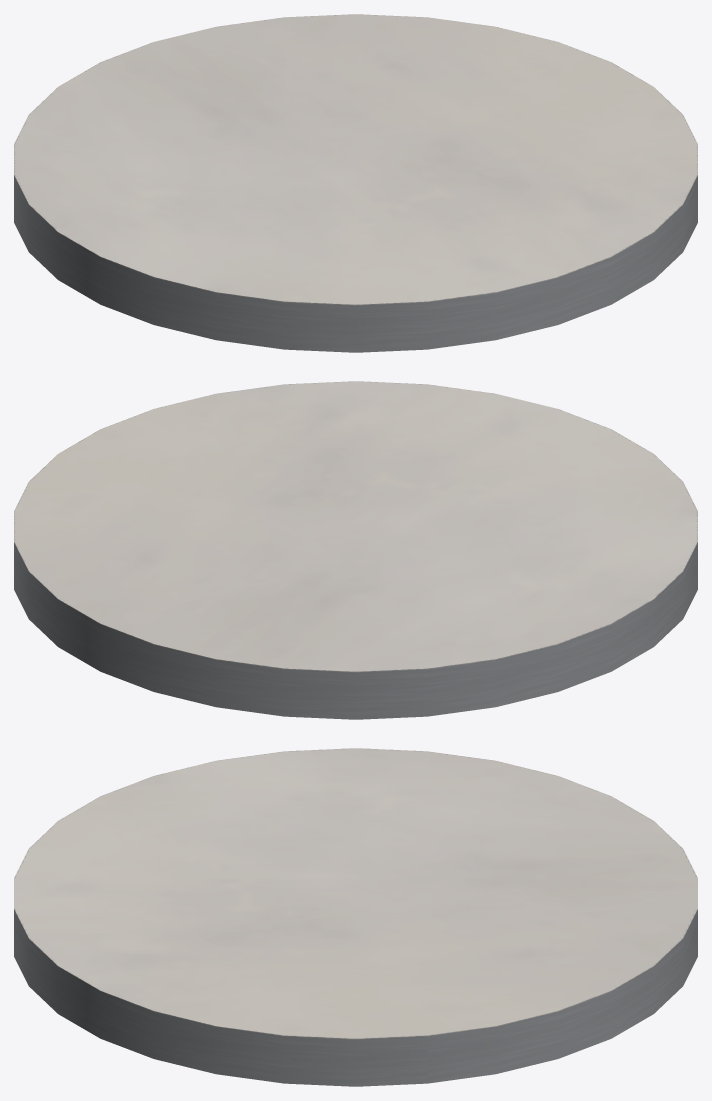
The model's file is roof light.fbx.
3 views of the same model, one above another, from view 1: azimuth 30°, elevation 25°; view 2: azimuth 150°, elevation 25°; view 3: azimuth 270°, elevation 25° (orthographic).
Parts seen in each view (by area): view 1: roof_light; view 2: roof_light; view 3: roof_light.
Part boxes in pixels (left/top/right/bottom): roof_light: left=14, top=14, right=697, bottom=352; roof_light: left=14, top=381, right=697, bottom=719; roof_light: left=14, top=748, right=697, bottom=1086.
Bounding box in the file's own units: 24.41 × 1.88 × 24.27.
